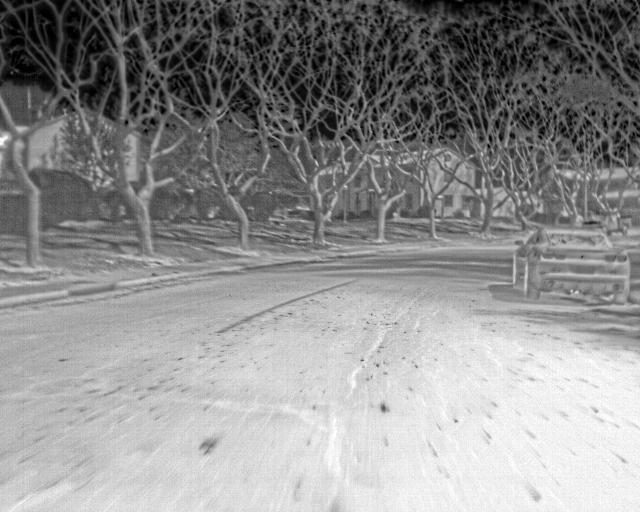car: (513, 224, 631, 307)
